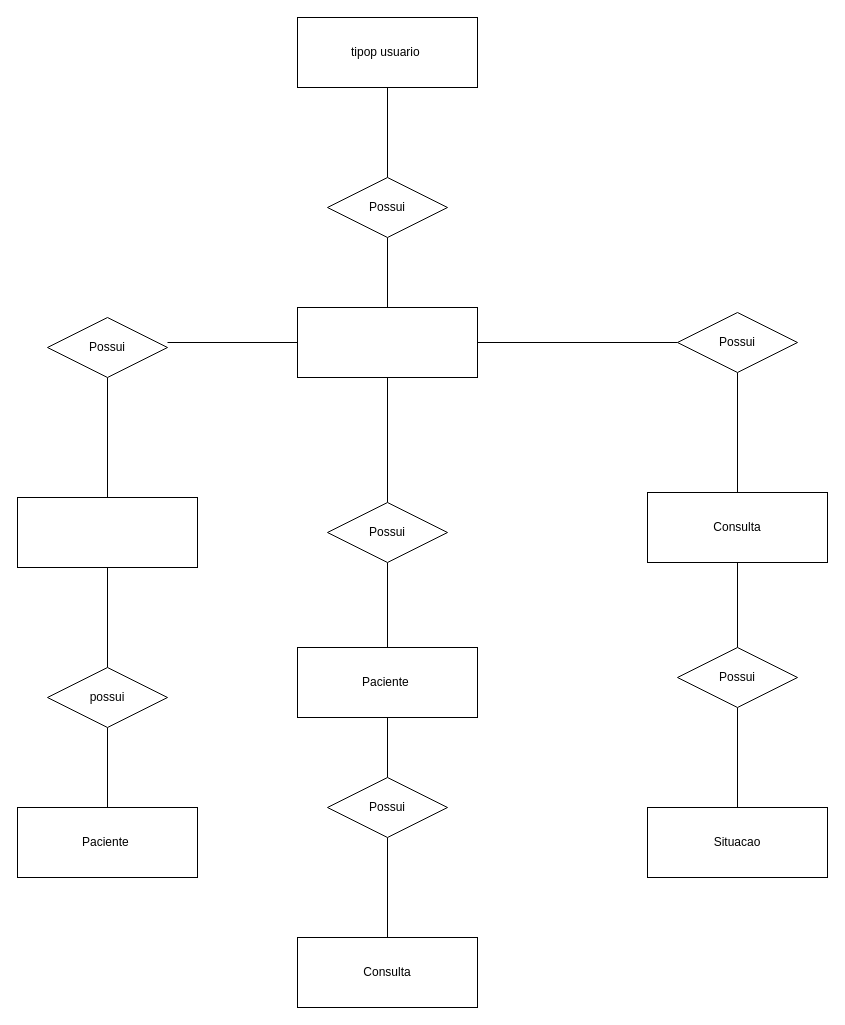
Some shapes in this 845 by 1025 pixel diagram are drawn without their labels. Each missing label, with the box of its shape:
Medico: (16, 496, 198, 568)
usuario: (296, 306, 478, 378)
